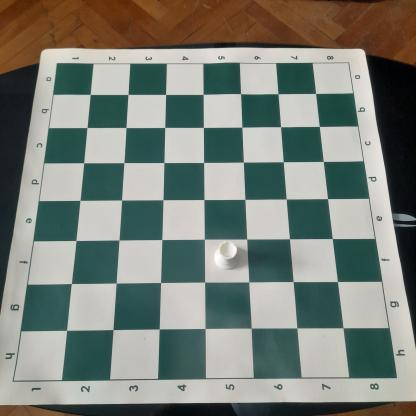white-rook: (213, 240, 242, 272)
